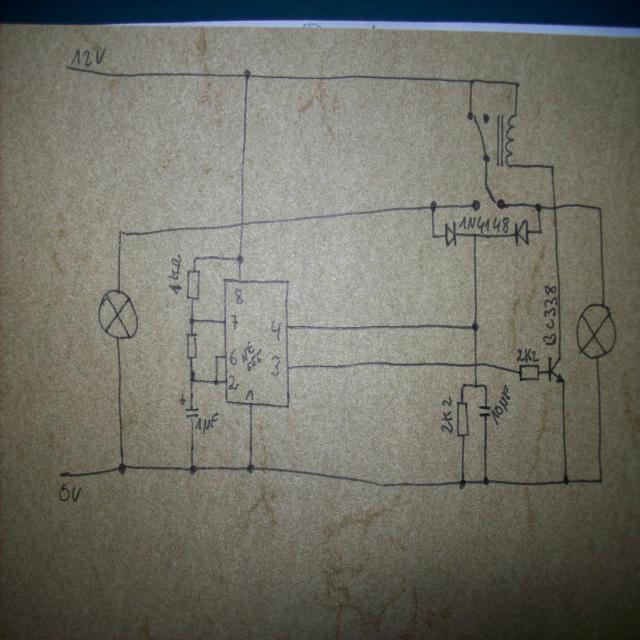capacitor: (178, 392, 198, 418), (478, 404, 491, 418)
crossover: (238, 218, 246, 228), (551, 203, 558, 212), (472, 361, 478, 368)
diode: (514, 218, 530, 246), (444, 220, 457, 247)
junction: (117, 462, 126, 475), (429, 199, 437, 213), (562, 473, 570, 486), (188, 369, 195, 383), (471, 320, 479, 332), (458, 478, 466, 490), (246, 462, 254, 474), (482, 475, 490, 486), (243, 68, 250, 80), (189, 464, 197, 474), (534, 202, 542, 211), (236, 254, 243, 264), (117, 228, 124, 237), (468, 76, 475, 85), (513, 79, 520, 88), (212, 377, 219, 386), (430, 232, 437, 241), (536, 227, 543, 235), (188, 316, 194, 325), (459, 382, 465, 391), (549, 162, 555, 170), (597, 476, 603, 484), (596, 205, 602, 212), (192, 255, 198, 262), (213, 354, 219, 361), (482, 383, 489, 389), (471, 232, 478, 238), (472, 382, 478, 388)
resistor: (455, 400, 470, 438), (186, 268, 200, 301), (518, 363, 540, 381), (185, 331, 198, 360)
switch: (471, 182, 505, 212)
terminal: (57, 469, 65, 479), (64, 63, 70, 72)
text: (458, 215, 509, 233), (542, 284, 557, 345), (491, 383, 511, 426), (241, 340, 262, 372), (167, 252, 182, 294), (71, 48, 106, 66), (439, 394, 454, 434), (195, 411, 219, 435), (58, 482, 82, 502), (516, 347, 540, 362), (270, 318, 281, 341), (270, 354, 281, 377), (233, 287, 244, 305), (229, 347, 238, 366), (228, 374, 238, 391), (229, 313, 238, 331), (244, 388, 253, 402)
transistor: (547, 354, 565, 384)
